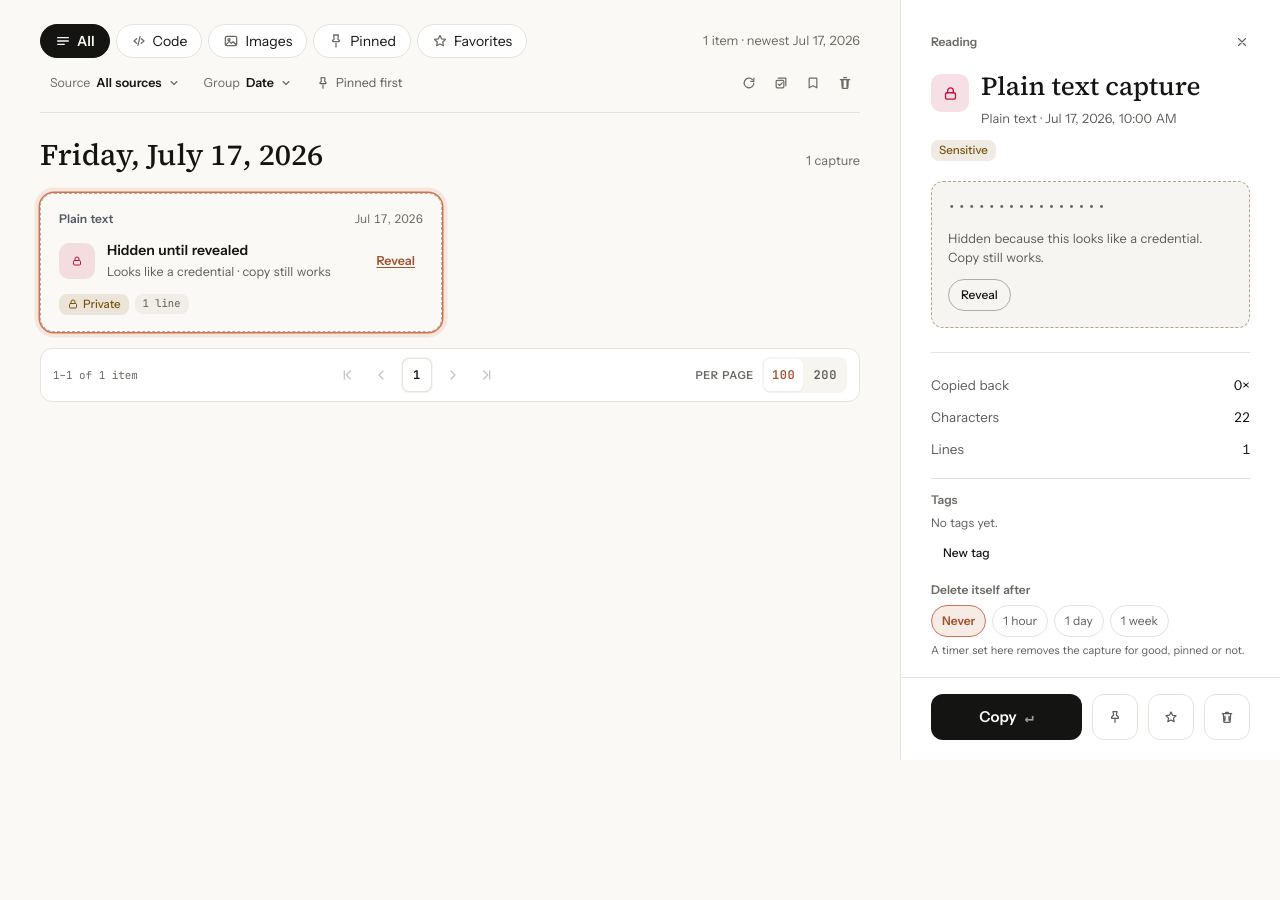
Test: ClipboardPage › masks a sensitive capture in the list until it is revealed
expect the option does not show "sk_live_not_a_real_key": met
expect the text "Hidden until revealed" is shown: met, box x1=107 y1=241 x2=248 y2=259
What coordinates should you click on to do the following:
click the button "Reveal" in the row of "Hidden until revealed"
I would click on:
 (396, 261)
Its box is x1=368 y1=248 x2=423 y2=274.
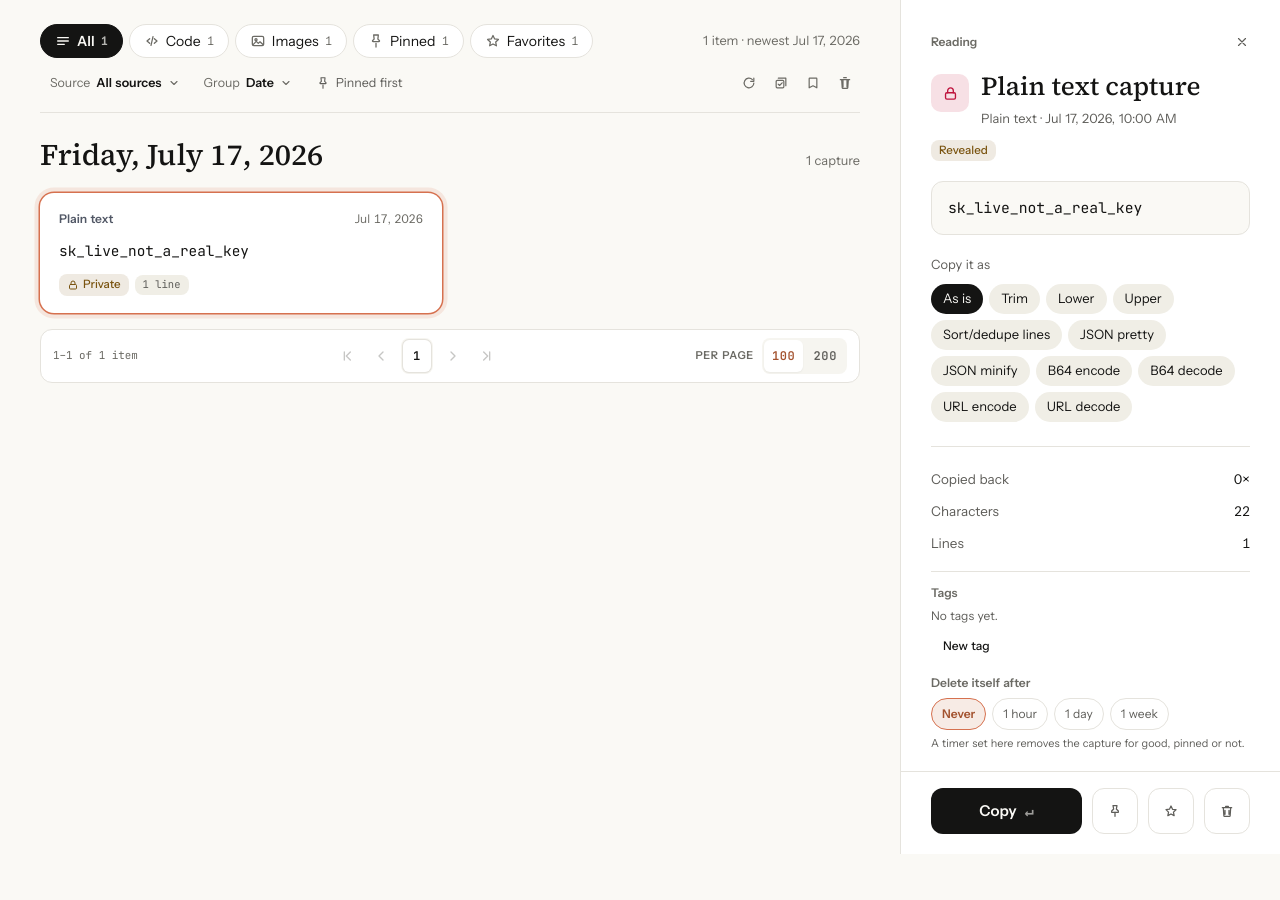
expect the text "sk_live_not_a_real_key" below "Friday, July 17, 2026" is shown: met, box x1=59 y1=241 x2=249 y2=260
